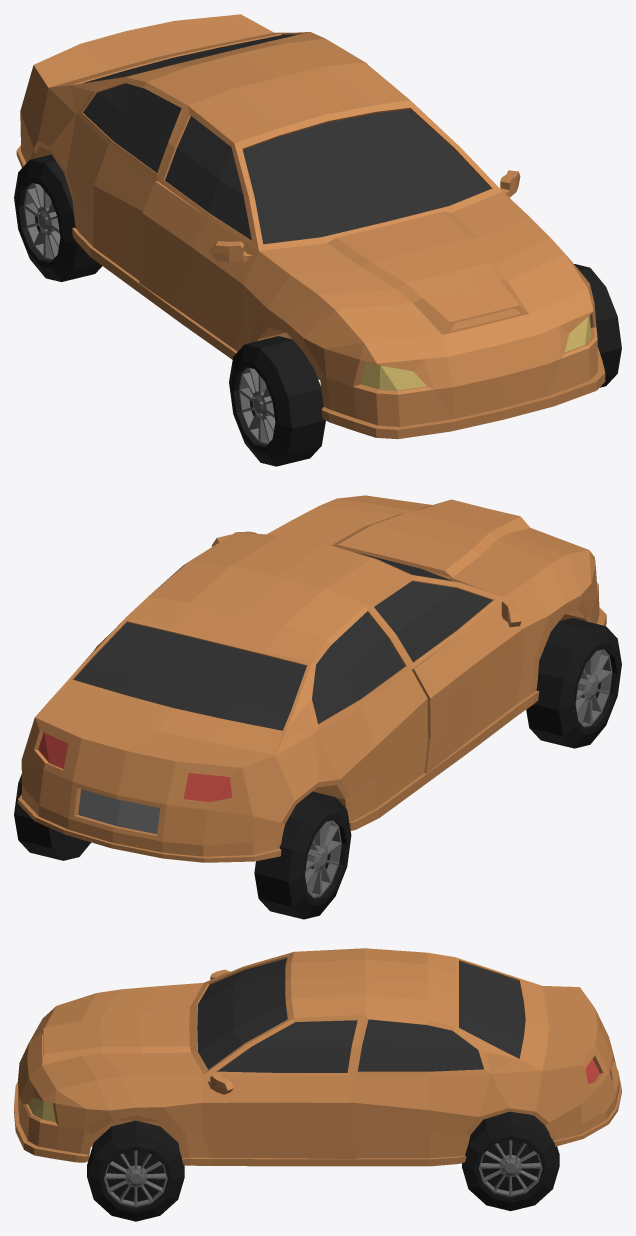
File: SportsCar.glb
3 views of the same model, one above another, from view 1: azimuth 30°, elevation 25°; view 2: azimuth 150°, elevation 25°; view 3: azimuth 270°, elevation 25° (orthographic). The views are drawn at different scales.
Visible parts, largest first — view 1: Car Body, R_Front Wheel, R_Back Wheel, L_Front Wheel; view 2: Car Body, R_Front Wheel, R_Back Wheel, L_Back Wheel; view 3: Car Body, L_Front Wheel, L_Back Wheel.
Part boxes in pixels (x1=…): Car Body: x1=16, y1=14, x2=605, y2=439; R_Front Wheel: x1=229, y1=336, x2=325, y2=466; R_Back Wheel: x1=14, y1=154, x2=101, y2=281; L_Front Wheel: x1=574, y1=264, x2=621, y2=387; Car Body: x1=18, y1=495, x2=606, y2=862; R_Front Wheel: x1=526, y1=618, x2=621, y2=748; R_Back Wheel: x1=254, y1=791, x2=351, y2=919; L_Back Wheel: x1=14, y1=774, x2=90, y2=860; Car Body: x1=14, y1=948, x2=621, y2=1166; L_Front Wheel: x1=87, y1=1120, x2=184, y2=1221; L_Back Wheel: x1=462, y1=1111, x2=559, y2=1211.
Bounding box in the file's own units: 0.1608 × 0.1061 × 0.3208.
